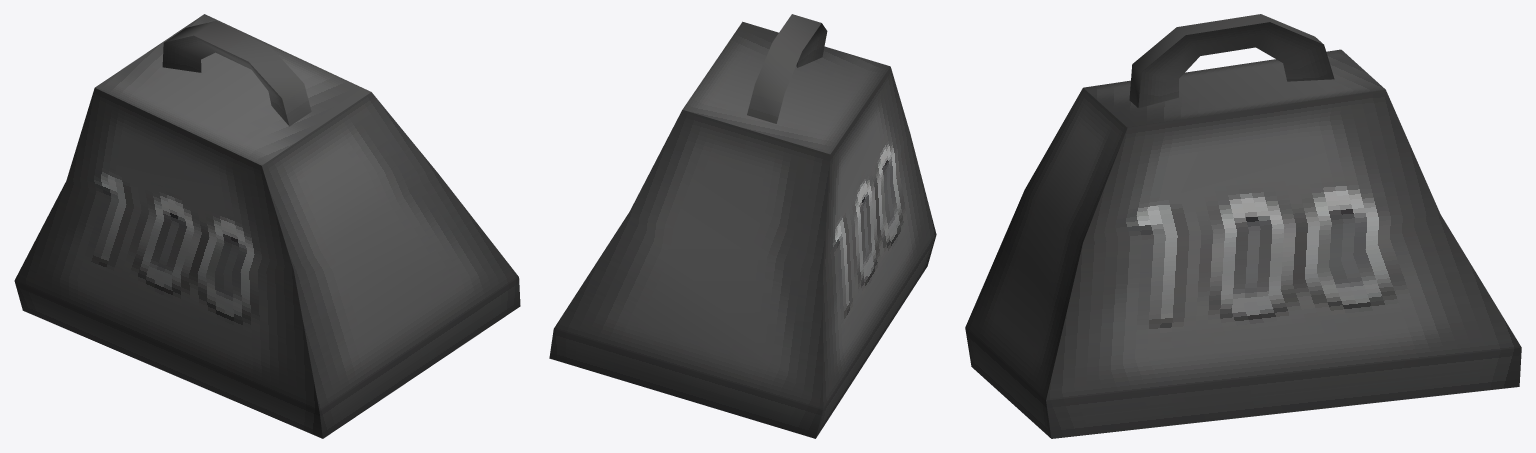
Rendered from tt_m_chr_avt_acc_hat_weight.glb.
The picture shows the model from 3 angles, left to right: view 1: azimuth 30°, elevation 25°; view 2: azimuth 150°, elevation 25°; view 3: azimuth 270°, elevation 25°; orthographic projection. The views are drawn at different scales.
Parts seen in each view (by area): view 1: weightHat; view 2: weightHat; view 3: weightHat.
Boxes of the visible parts, bbox=[...] form: weightHat: bbox=[14, 14, 520, 438]; weightHat: bbox=[549, 14, 936, 438]; weightHat: bbox=[965, 14, 1521, 438].
Bounding box in the file's own units: 3.28 × 2.96 × 4.16.
Materials: 1 (1 with a texture image).
